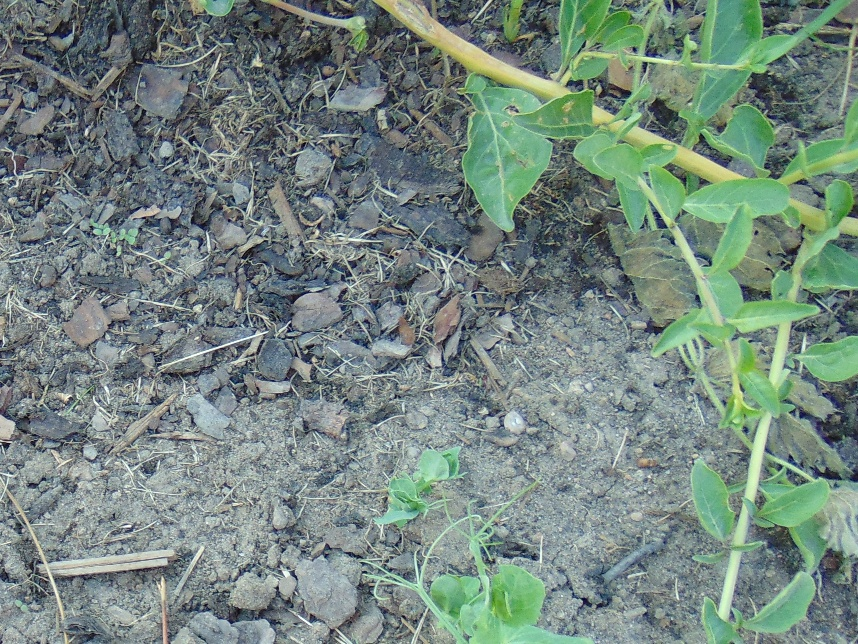crop: (367, 501, 592, 644), (366, 443, 471, 530)
weed: (464, 1, 857, 425), (676, 360, 858, 644)
